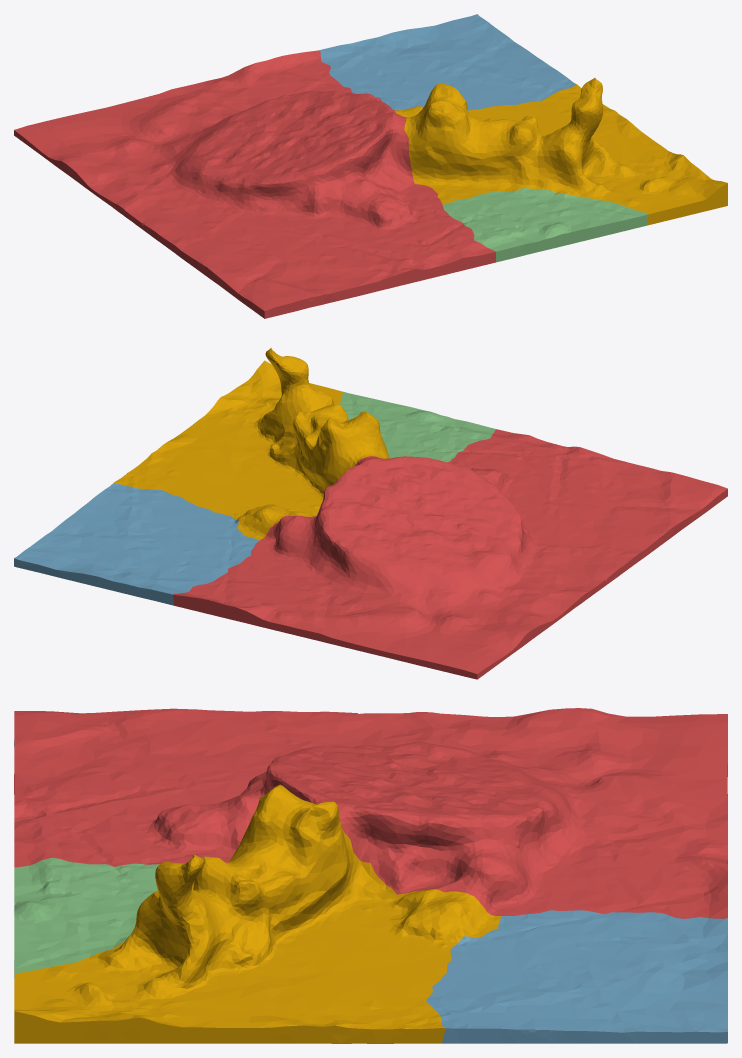
Rendered from fractured_26_4pcs.glb.
The picture shows the model from 3 angles, top to bottom: view 1: azimuth 30°, elevation 25°; view 2: azimuth 150°, elevation 25°; view 3: azimuth 270°, elevation 25°; orthographic projection. The views are drawn at different scales.
Parts seen in each view (by area): view 1: piece_1.obj, piece_0.obj, piece_2.obj, piece_3.obj; view 2: piece_1.obj, piece_0.obj, piece_2.obj, piece_3.obj; view 3: piece_1.obj, piece_0.obj, piece_2.obj, piece_3.obj.
Boxes of the visible parts, <box> form: piece_1.obj: <box>14,50,496,318</box>; piece_0.obj: <box>395,78,727,225</box>; piece_2.obj: <box>319,14,575,110</box>; piece_3.obj: <box>442,188,648,262</box>; piece_1.obj: <box>173,429,727,679</box>; piece_0.obj: <box>113,348,389,540</box>; piece_2.obj: <box>14,483,258,605</box>; piece_3.obj: <box>339,392,496,462</box>; piece_1.obj: <box>14,708,727,918</box>; piece_0.obj: <box>14,784,501,1043</box>; piece_2.obj: <box>426,910,727,1043</box>; piece_3.obj: <box>14,857,159,978</box>.
Bounding box in the file's own units: 1 × 0.2042 × 0.9367.
